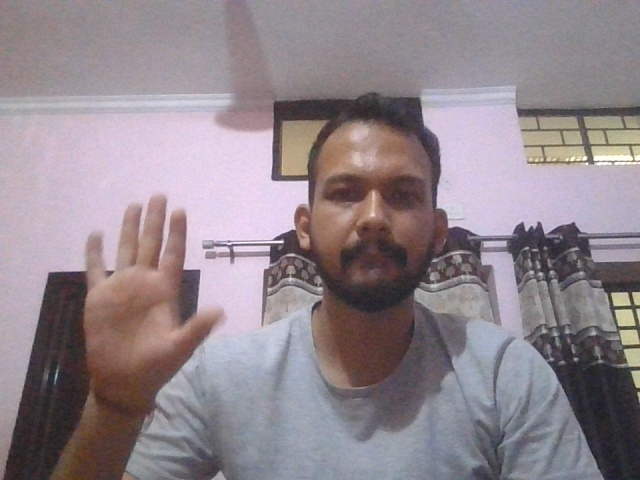hello: (83, 192, 226, 396)
